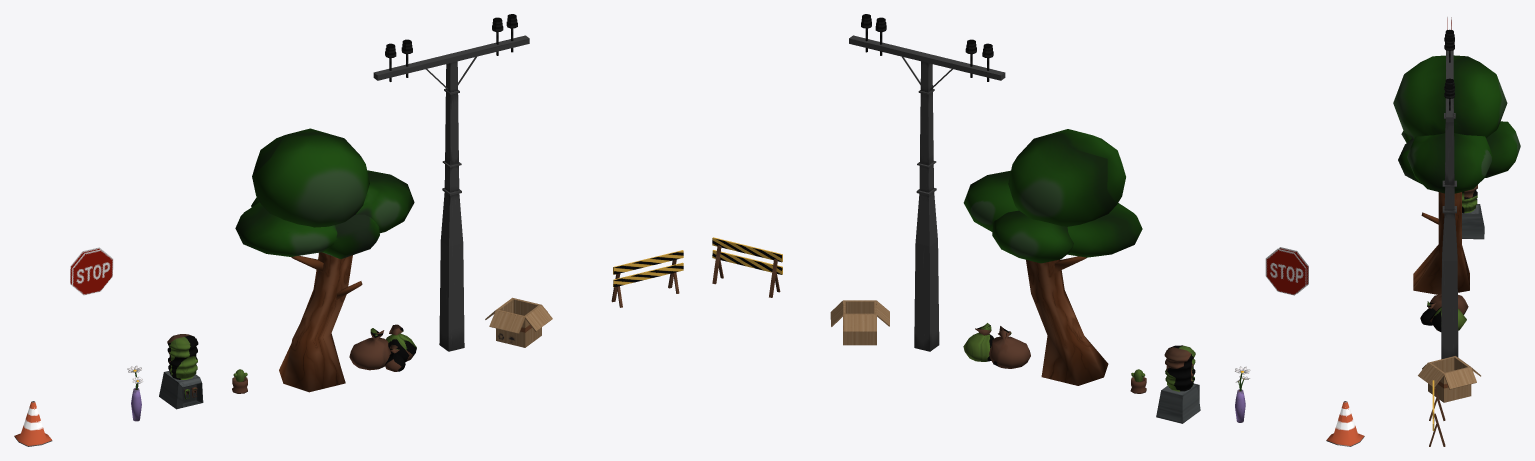
File: CityKit2.fbx_Scene_Scene_Collection.fbx
3 views of the same model, side by side, from view 1: azimuth 30°, elevation 25°; view 2: azimuth 150°, elevation 25°; view 3: azimuth 270°, elevation 25° (orthographic). The views are drawn at different scales.
Visible parts, largest first — view 1: SmallTree, LampPost, WaterGallon, CardboardBox, TrashBag, SignPost, RoadBarrier, TrafficCone; view 2: SmallTree, LampPost, WaterGallon, CardboardBox, TrashBag, RoadBarrier, SignPost, TrafficCone; view 3: SmallTree, LampPost, CardboardBox, WaterGallon, TrashBag, RoadBarrier.
Part boxes in pixels (box(x1,y1,x2,y2)): SmallTree: box(235, 128, 414, 392); LampPost: box(373, 14, 529, 351); WaterGallon: box(159, 334, 203, 409); CardboardBox: box(485, 297, 552, 347); TrashBag: box(349, 324, 416, 371); SignPost: box(70, 247, 113, 295); RoadBarrier: box(611, 250, 683, 307); TrafficCone: box(14, 401, 52, 446); SmallTree: box(963, 129, 1142, 385); LampPost: box(849, 14, 1005, 351); WaterGallon: box(1156, 345, 1200, 423); CardboardBox: box(830, 300, 889, 345); TrashBag: box(963, 323, 1030, 368); RoadBarrier: box(712, 237, 782, 297); SignPost: box(1265, 247, 1308, 295); TrafficCone: box(1326, 401, 1364, 446); SmallTree: box(1393, 55, 1520, 294); LampPost: box(1441, 29, 1458, 359); CardboardBox: box(1418, 356, 1480, 402); WaterGallon: box(1462, 185, 1484, 239); TrashBag: box(1420, 294, 1468, 331); RoadBarrier: box(1429, 380, 1445, 446).
Size of the model in its own units: 3134 by 1479 by 564.
Materials: 13 (13 with a texture image).
